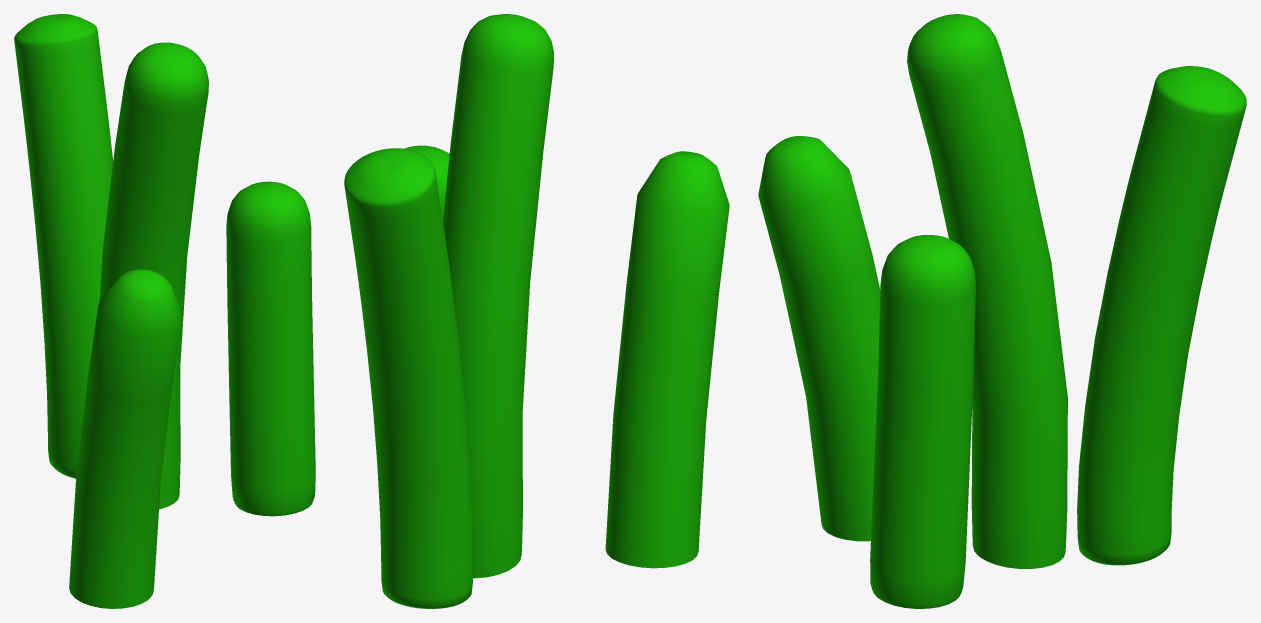
File: low_gress.fbx
3 renders of one model, left to right at view 1: azimuth 30°, elevation 25°; view 2: azimuth 150°, elevation 25°; view 3: azimuth 270°, elevation 25°, orthographic. The views are drawn at different scales.
Parts seen in each view (by area): view 1: low_gress; view 2: low_gress; view 3: low_gress.
Boxes of the visible parts, x1=… form: low_gress: x1=14, y1=14, x2=315, y2=608; low_gress: x1=344, y1=14, x2=729, y2=608; low_gress: x1=758, y1=14, x2=1246, y2=608.
Size of the model in its own units: 17.57 by 32.19 by 25.69.
